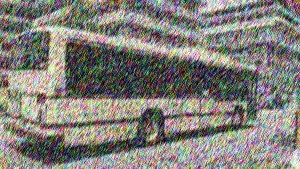bus: (8, 30, 263, 149)
